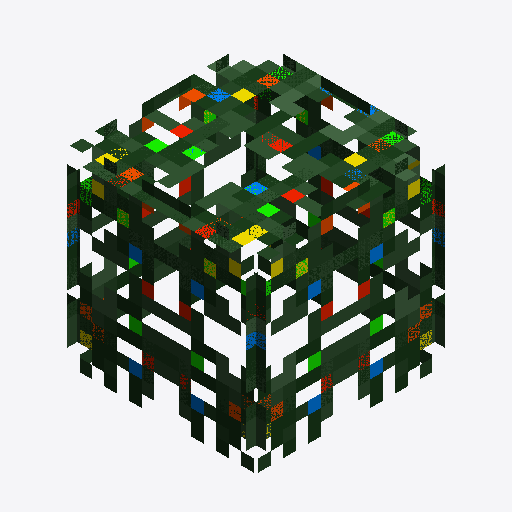
A Minecraft block model of 5 cuboids, rendered isometrically (azimuth 45°, elevation 35.3°) with the resource pack's own textures.
Visible parts, largest first — element 4, element 1, element 2, element 3, element 5.
Part boxes in pixels (x1,y1,x2,y2): element 4: (246,157,444,472); element 1: (70,60,416,259); element 2: (67,157,265,472); element 3: (246,54,444,362); element 5: (67,54,265,362).
Bounding box in the file's own units: 16 × 16 × 16.